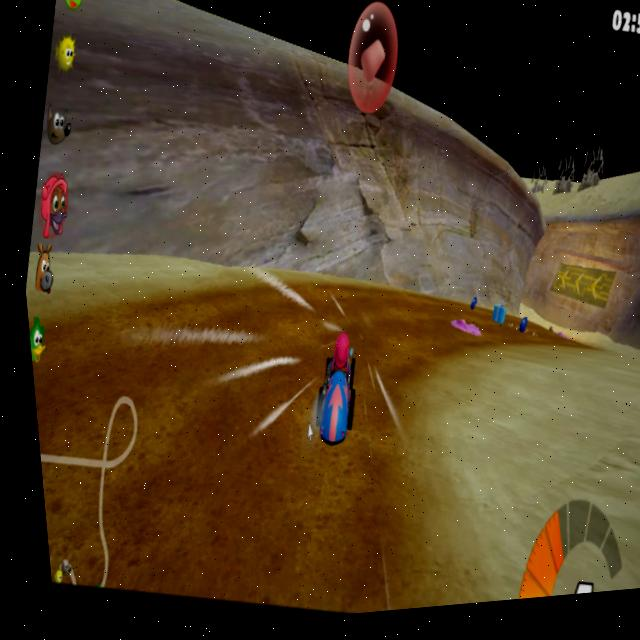bonus: (483, 303, 504, 336)
nitro: (460, 300, 476, 321), (513, 323, 525, 345)
obstacle: (440, 321, 485, 360)
player_kart: (282, 327, 371, 466)
track: (101, 273, 293, 546), (473, 338, 640, 485), (229, 270, 438, 359), (68, 244, 210, 307)
